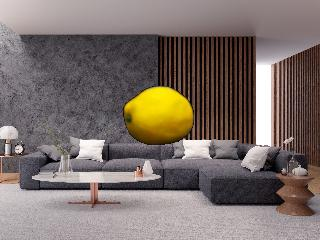lemon: (125, 88, 195, 145)
